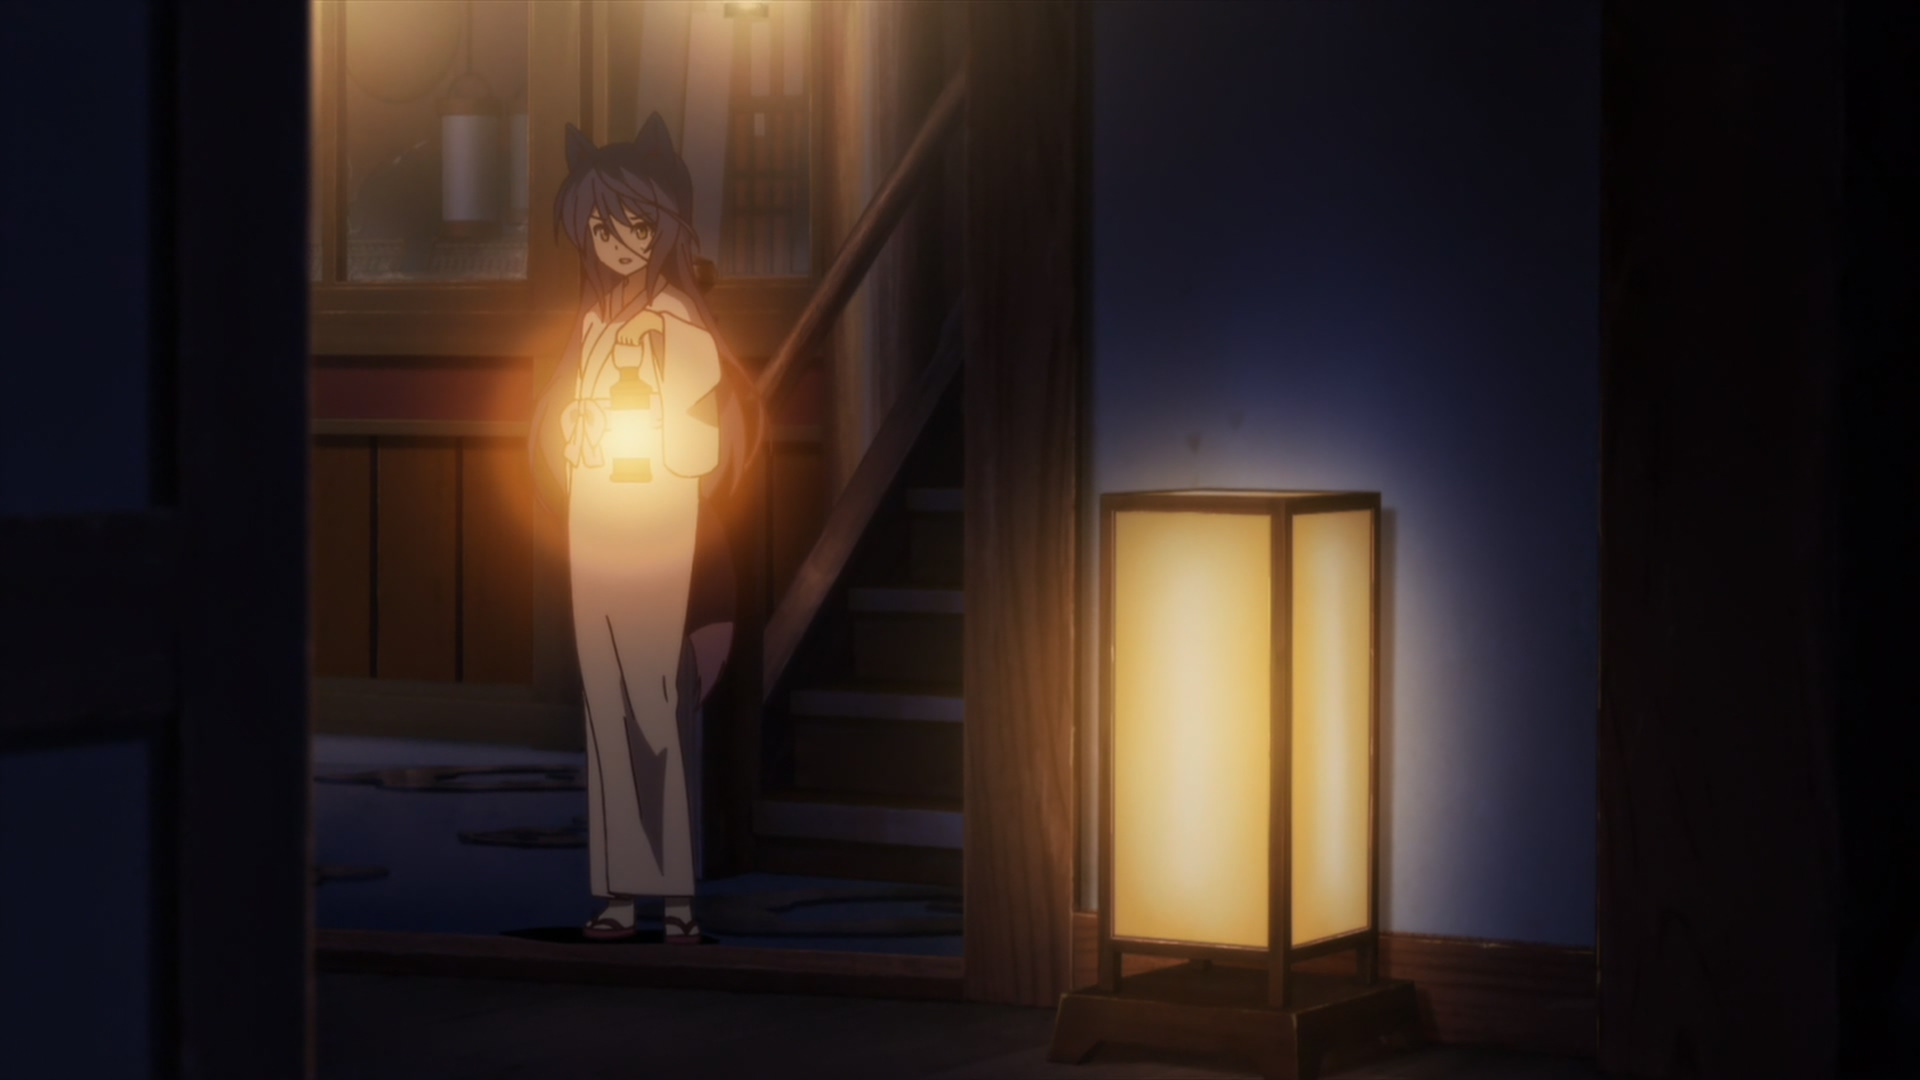皋: (525, 107, 767, 945)
